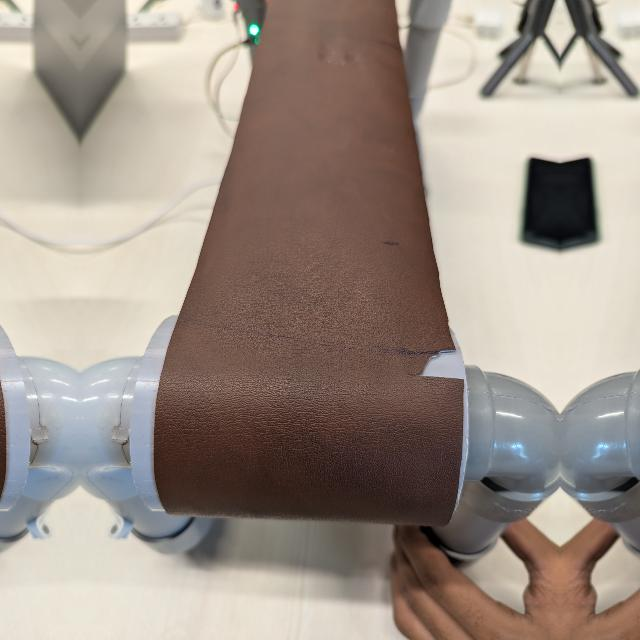belt_tear: (411, 343, 462, 388)
